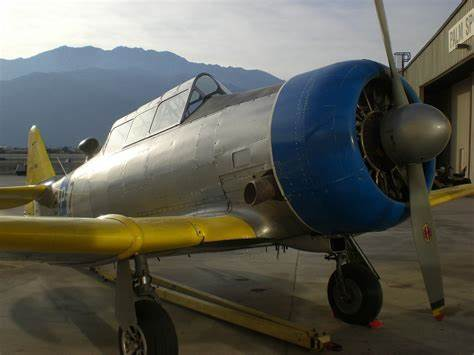Aeronef_militaire: (1, 1, 474, 354)
